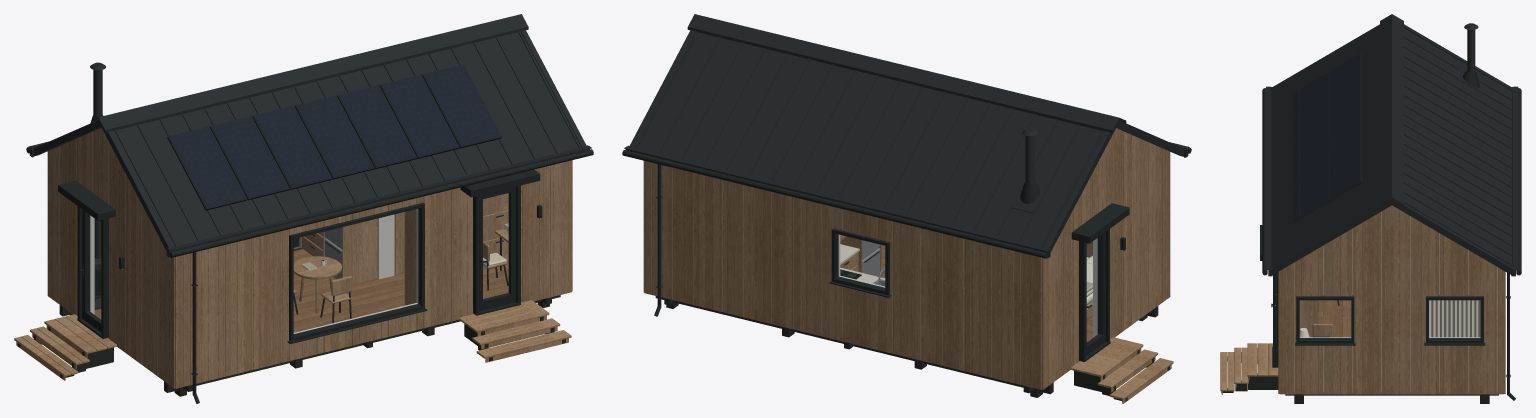
The model's file is aster-configurator.glb.
3 views of the same model, side by side, from view 1: azimuth 30°, elevation 25°; view 2: azimuth 150°, elevation 25°; view 3: azimuth 270°, elevation 25° (orthographic). The views are drawn at different scales.
Parts seen in each view (by area): view 1: Cladding_Front, RoofPlane_-1, Cladding_LeftGable, RidgeCap, FloorSlab, SolarPanelCells_3, SolarPanelCells_5, SolarPanelCells_2, SolarPanelCells_0, SolarPanelCells_1, SolarPanelCells_4, SolarPanelCells_6 (+30 smaller); view 2: RoofPlane_1, Cladding_Rear, Cladding_LeftGable, RidgeCap, Gutter_1, GutterDripApron_1, BargeFlashing_(1, -4.38), LeftEntrance_Canopy, LongitudinalBaseRail_1.92, LeftEntrance_OuterJamb_1, LeftEntrance_LeafStile_-1, BargeFlashing_(1, 4.38) (+6 smaller); view 3: Cladding_RightGable, RoofPlane_1, RoofPlane_-1, RidgeCap, BathroomOpaqueCurtain, FloorSlab, SolarPanelCells_0, SolarPanelCells_2, SolarPanelCells_3, SolarPanelCells_1, SolarPanelCells_4, SolarPanelCells_5 (+29 smaller).
Boxes of the visible parts, x1,y1,x2,y2 form: Cladding_Front: [175, 160, 571, 388]; RoofPlane_-1: [113, 31, 581, 246]; Cladding_LeftGable: [47, 128, 175, 388]; RidgeCap: [91, 14, 528, 132]; FloorSlab: [94, 249, 508, 332]; SolarPanelCells_3: [296, 96, 373, 177]; SolarPanelCells_5: [381, 75, 458, 156]; SolarPanelCells_2: [254, 106, 331, 187]; SolarPanelCells_0: [169, 127, 246, 208]; SolarPanelCells_1: [211, 116, 288, 197]; SolarPanelCells_4: [339, 85, 415, 166]; SolarPanelCells_6: [424, 65, 500, 146]; RoofPlane_1: [634, 32, 1104, 247]; Cladding_Rear: [644, 161, 1041, 389]; Cladding_LeftGable: [1042, 128, 1170, 389]; RidgeCap: [687, 14, 1126, 133]; Gutter_1: [622, 150, 1047, 258]; GutterDripApron_1: [624, 146, 1049, 251]; BargeFlashing_(1, -4.38): [1043, 121, 1118, 251]; LeftEntrance_Canopy: [1071, 203, 1129, 243]; LongitudinalBaseRail_1.92: [655, 296, 1053, 394]; LeftEntrance_OuterJamb_1: [1079, 242, 1085, 361]; LeftEntrance_LeafStile_-1: [1098, 232, 1105, 341]; BargeFlashing_(1, 4.38): [629, 30, 695, 147]; Cladding_RightGable: [1279, 205, 1504, 394]; RoofPlane_1: [1404, 28, 1512, 265]; RoofPlane_-1: [1271, 28, 1379, 264]; RidgeCap: [1380, 14, 1403, 206]; BathroomOpaqueCurtain: [1429, 300, 1480, 337]; FloorSlab: [1286, 300, 1497, 394]; SolarPanelCells_0: [1293, 54, 1359, 109]; SolarPanelCells_2: [1293, 90, 1359, 146]; SolarPanelCells_3: [1293, 109, 1359, 165]; SolarPanelCells_1: [1293, 72, 1359, 128]; SolarPanelCells_4: [1293, 127, 1359, 183]; SolarPanelCells_5: [1293, 146, 1359, 201].
Bounding box in the file's own units: 9.92 × 5.19 × 6.23.
Materials: 25 (4 with a texture image).
